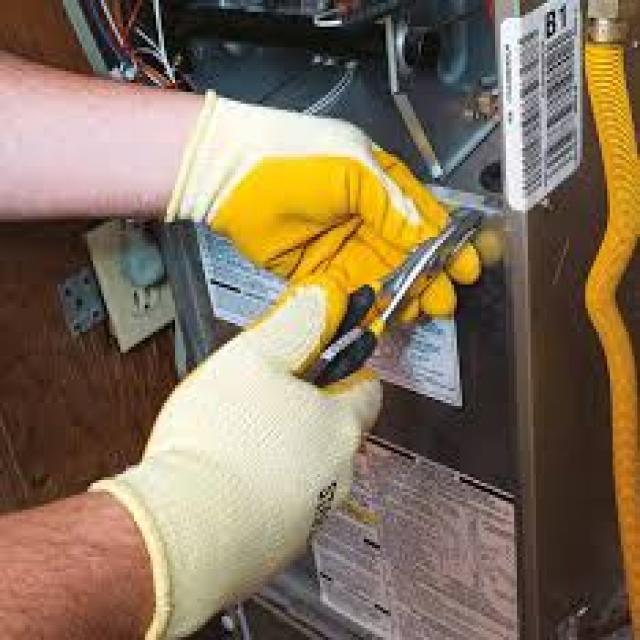Gloves: (92, 95, 448, 637), (415, 245, 478, 313)
